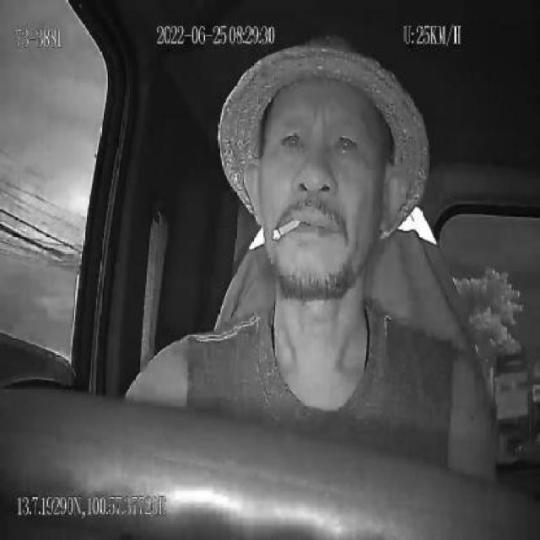smoking: (271, 212, 301, 246)
